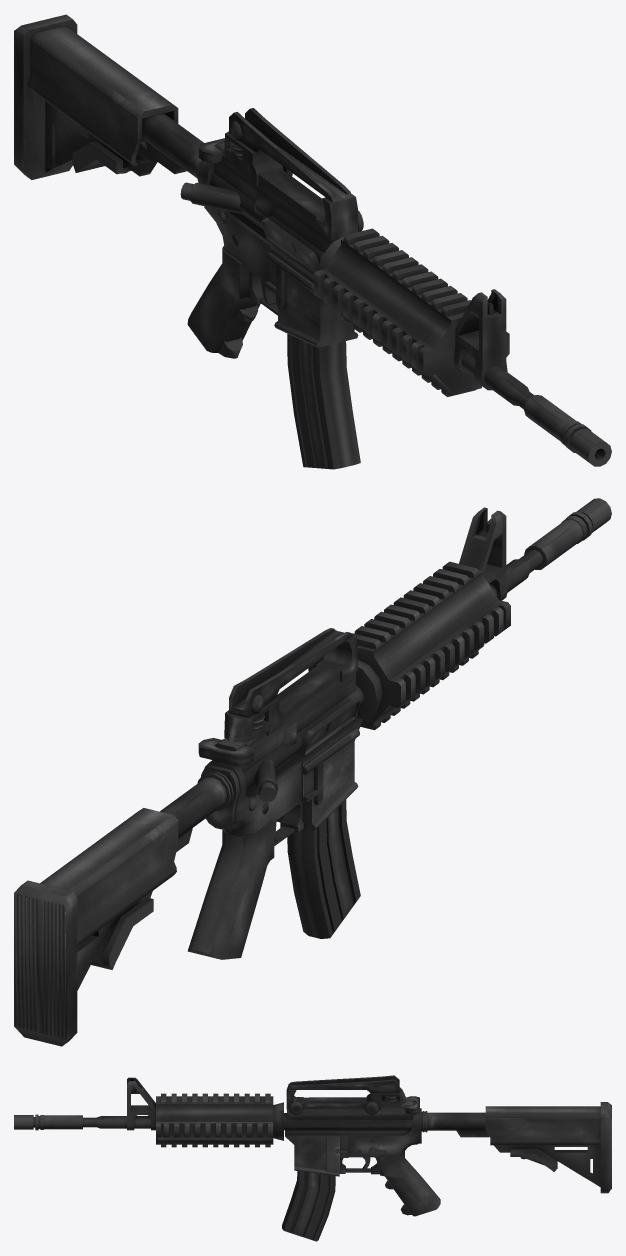
3 renders of one model, top to bottom at view 1: azimuth 30°, elevation 25°; view 2: azimuth 150°, elevation 25°; view 3: azimuth 270°, elevation 25°, orthographic. The views are drawn at different scales.
Visible parts, largest first — view 1: M4A1_Sopmod_Body, M4A1_Sopmod_Iron_Sight, M4A1_Sopmod_Magazine; view 2: M4A1_Sopmod_Body, M4A1_Sopmod_Iron_Sight, M4A1_Sopmod_Magazine; view 3: M4A1_Sopmod_Body, M4A1_Sopmod_Iron_Sight, M4A1_Sopmod_Magazine.
Part boxes in pixels (left/top/right/bottom): M4A1_Sopmod_Body: left=14, top=14, right=611, bottom=466; M4A1_Sopmod_Iron_Sight: left=224, top=108, right=363, bottom=240; M4A1_Sopmod_Magazine: left=287, top=333, right=360, bottom=469; M4A1_Sopmod_Body: left=14, top=498, right=611, bottom=1046; M4A1_Sopmod_Iron_Sight: left=224, top=628, right=357, bottom=744; M4A1_Sopmod_Magazine: left=287, top=799, right=360, bottom=938; M4A1_Sopmod_Body: left=14, top=1077, right=611, bottom=1216; M4A1_Sopmod_Iron_Sight: left=286, top=1075, right=407, bottom=1114; M4A1_Sopmod_Magazine: left=282, top=1171, right=335, bottom=1241.
Size of the model in its own units: 0.0442 by 0.1412 by 0.4758.
3 materials, 3 textured.
